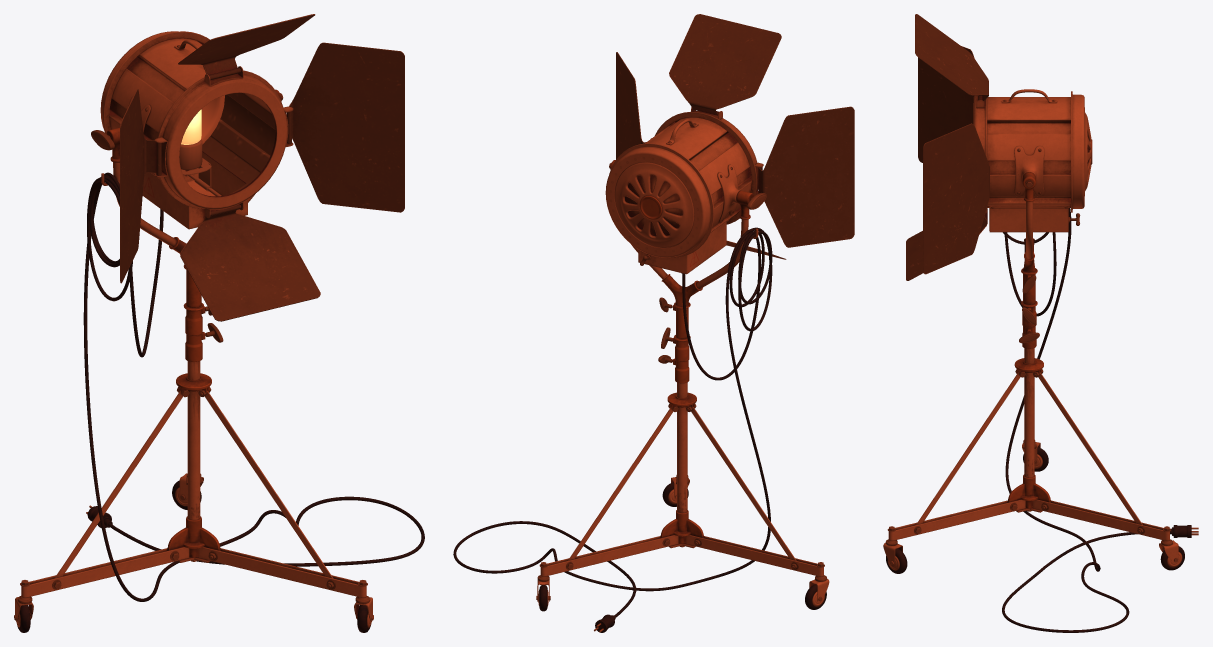
The model's file is spotlight_on_tripod.glb.
3 renders of one model, left to right at view 1: azimuth 30°, elevation 25°; view 2: azimuth 150°, elevation 25°; view 3: azimuth 270°, elevation 25°, orthographic. The views are drawn at different scales.
Visible parts, largest first — view 1: spotlight_base, barndoors_r, tripod_b, barndoors_b, wire, barndoors_l, barndoors_t, tripod_y, mirror, lamp_b; view 2: spotlight_base, barndoors_l, tripod_b, barndoors_t, wire, barndoors_r, tripod_y; view 3: spotlight_base, barndoors_r, tripod_b, wire, barndoors_l, barndoors_t, tripod_y, barndoors_b.
Part boxes in pixels (box(x1,y1,x2,y2)): spotlight_base: box(100, 31, 293, 229); barndoors_r: box(286, 42, 404, 212); tripod_b: box(17, 361, 370, 603); barndoors_b: box(180, 204, 320, 321); wire: box(83, 172, 424, 601); barndoors_l: box(120, 89, 161, 283); barndoors_t: box(178, 14, 315, 80); tripod_y: box(101, 89, 283, 307); mirror: box(181, 95, 224, 191); lamp_b: box(179, 109, 202, 169); spotlight_base: box(605, 107, 763, 274); barndoors_l: box(758, 106, 854, 247); tripod_b: box(537, 382, 826, 581); barndoors_t: box(669, 14, 781, 115); wire: box(453, 227, 772, 632); barndoors_r: box(616, 52, 646, 159); tripod_y: box(609, 160, 758, 338); spotlight_base: box(973, 89, 1092, 232); barndoors_r: box(923, 123, 989, 274); tripod_b: box(885, 348, 1172, 545); wire: box(1002, 208, 1198, 632); barndoors_l: box(918, 46, 974, 162); barndoors_t: box(915, 14, 988, 101); tripod_y: box(1021, 172, 1037, 304); barndoors_b: box(906, 208, 987, 280).
Size of the model in its own units: 1.1 by 1.56 by 0.8828.
1 material, 1 textured.
